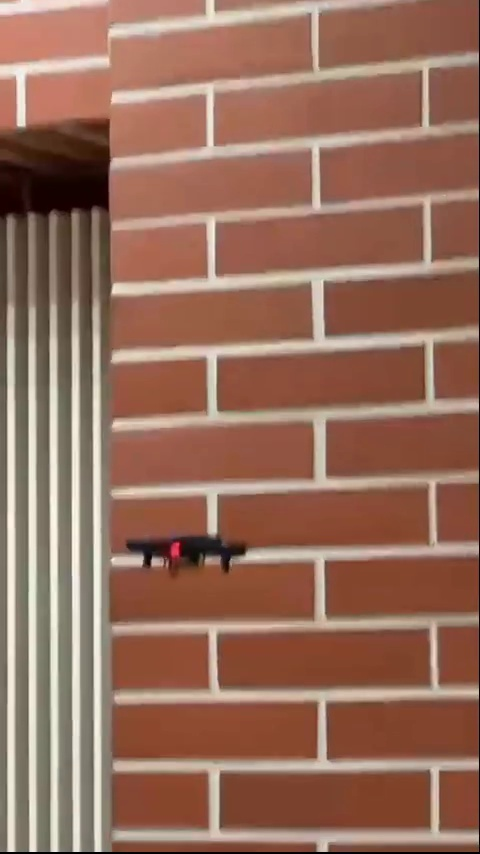drone: (128, 530, 253, 577)
